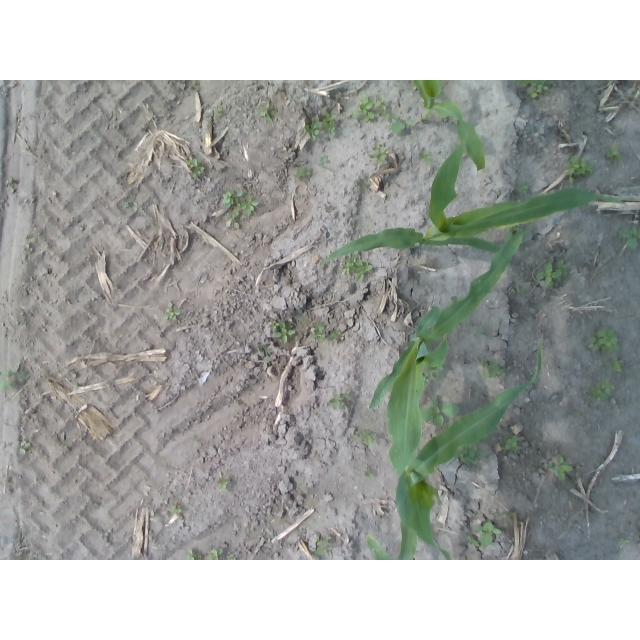Maize: (388, 332, 545, 560), (323, 133, 622, 252), (367, 228, 526, 402), (408, 80, 488, 173), (364, 534, 416, 560)
Weeds: (222, 188, 259, 228), (417, 396, 460, 427), (304, 109, 340, 141), (564, 154, 597, 185), (352, 94, 388, 122), (341, 253, 374, 282), (536, 258, 568, 287), (588, 328, 621, 355), (468, 522, 502, 547), (0, 362, 28, 391), (514, 81, 556, 100), (547, 454, 573, 482), (455, 442, 483, 466), (269, 320, 296, 344), (586, 379, 614, 402), (478, 357, 506, 379), (617, 225, 640, 251), (389, 113, 417, 134), (367, 141, 389, 165), (422, 363, 444, 386), (352, 428, 376, 449), (326, 392, 350, 410), (184, 158, 204, 178), (313, 535, 332, 556), (605, 143, 624, 162), (258, 103, 277, 121), (163, 302, 181, 321), (501, 433, 519, 451), (416, 149, 433, 165), (294, 166, 313, 179), (314, 323, 326, 342), (184, 549, 204, 560), (218, 473, 231, 489), (515, 181, 529, 195), (609, 359, 623, 373), (207, 548, 223, 560), (18, 441, 30, 456), (170, 506, 184, 517), (331, 329, 342, 343), (259, 344, 269, 357), (213, 104, 223, 116), (517, 286, 527, 294), (318, 155, 328, 163), (619, 539, 630, 546), (365, 470, 374, 478), (450, 296, 459, 304), (228, 553, 237, 560), (29, 237, 38, 244), (124, 201, 131, 208)
